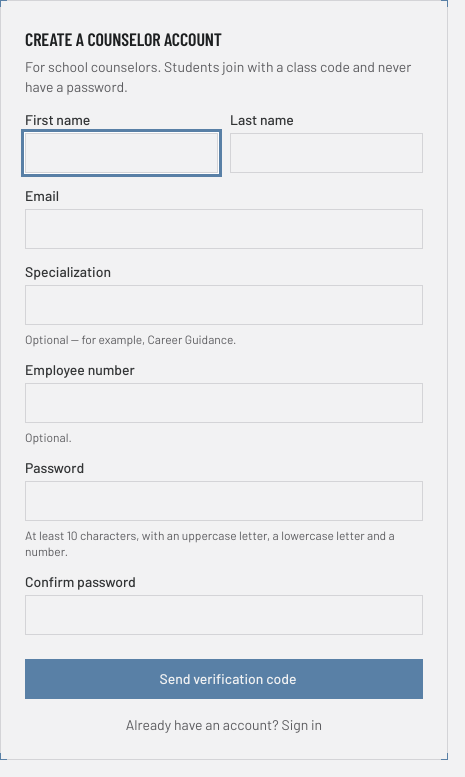
Test case: CounselorSignupPage › submits the details and moves to the code step
Expected: the field labelled "Email" is shown, [25, 209, 423, 249]
In the field labelled "First name": (122, 153) [25, 133, 218, 173], type "Liza"
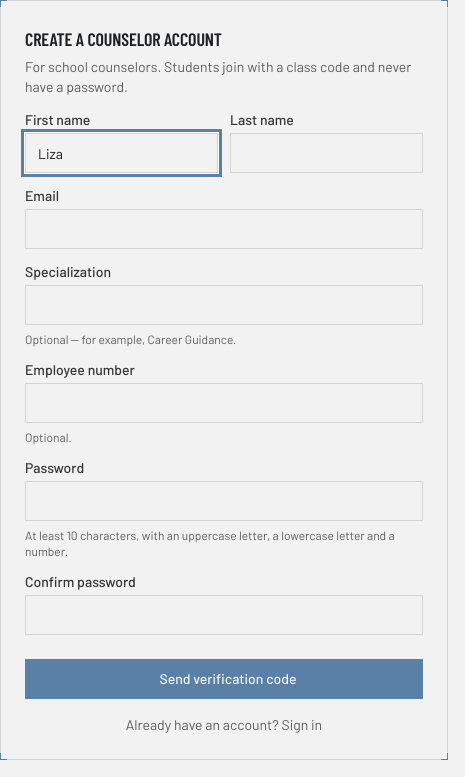
In the field labelled "Last name": (326, 153) [230, 133, 423, 173], type "Manalo"
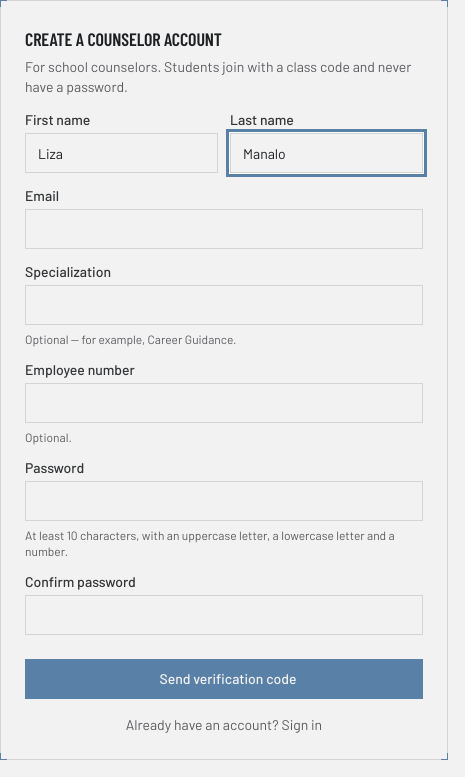
In the field labelled "Email": (224, 229) [25, 209, 423, 249], type "liza@school.test"
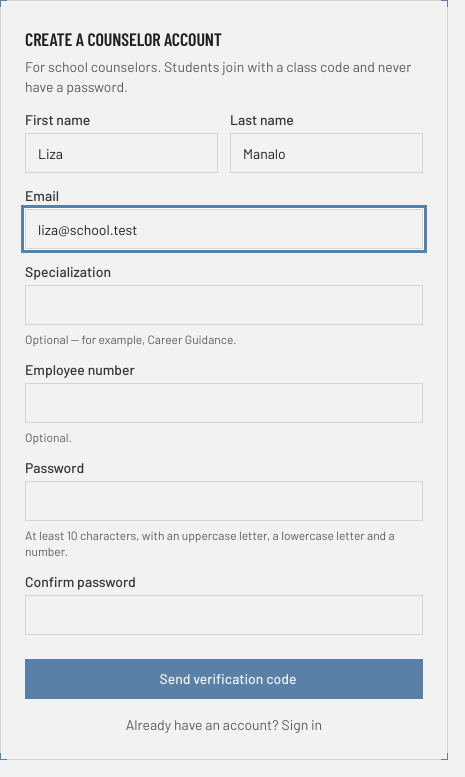
In the password field labelled "Password": (224, 501) [25, 481, 423, 521], type "ChosenByThem1"
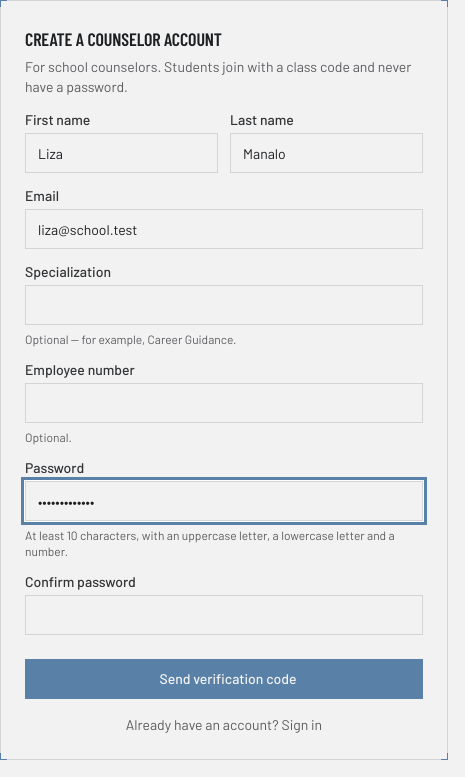
In the password field labelled "Confirm password": (224, 615) [25, 595, 423, 635], type "ChosenByThem1"
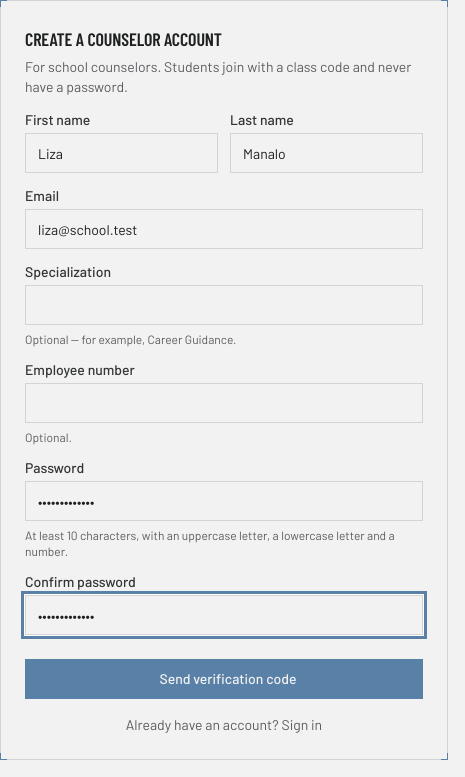
Click the button "Send verification code": (224, 679) [25, 659, 423, 699]
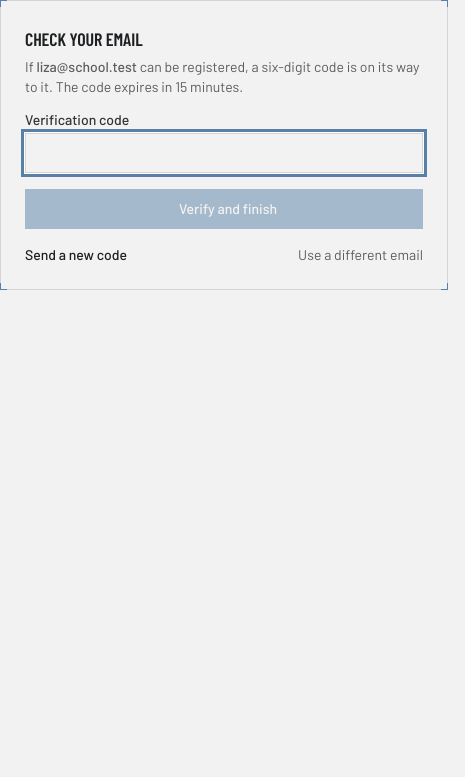
Expected: the field labelled "Verification code" is shown, [25, 133, 423, 173]
